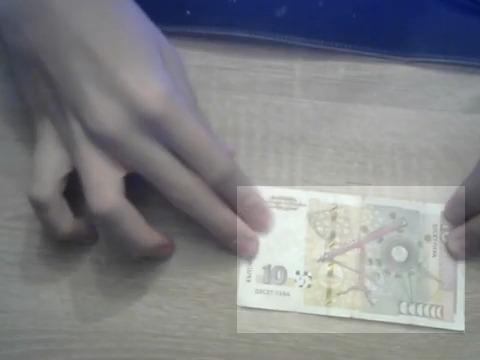10leva: (237, 186, 465, 333)
